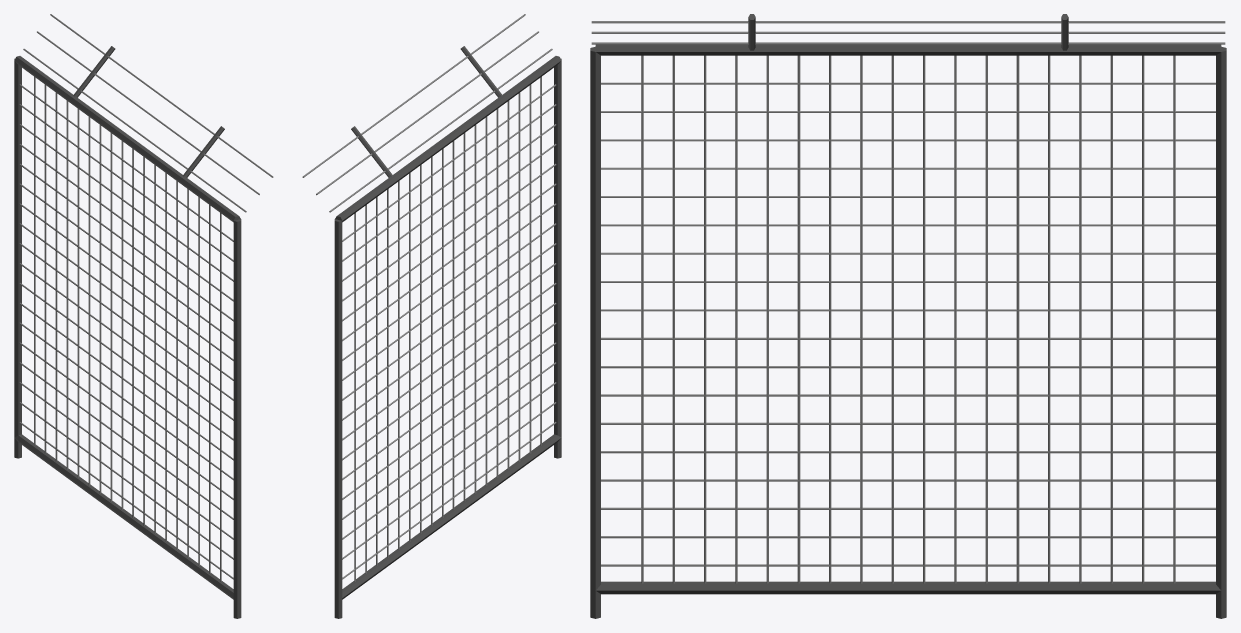
Rendered from Fences_01.fbx.
The picture shows the model from 3 angles, left to right: view 1: azimuth 30°, elevation 25°; view 2: azimuth 150°, elevation 25°; view 3: azimuth 270°, elevation 25°; orthographic projection. The views are drawn at different scales.
Visible parts, largest first — view 1: Cylindre_45; view 2: Cylindre_45; view 3: Cylindre_45.
Part boxes in pixels (x1=…): Cylindre_45: x1=14, y1=14, x2=273, y2=618; Cylindre_45: x1=302, y1=14, x2=561, y2=618; Cylindre_45: x1=590, y1=14, x2=1226, y2=618.
Bounding box in the file's own units: 24.1 × 222 × 203.
Materials: 1 (1 with a texture image).
